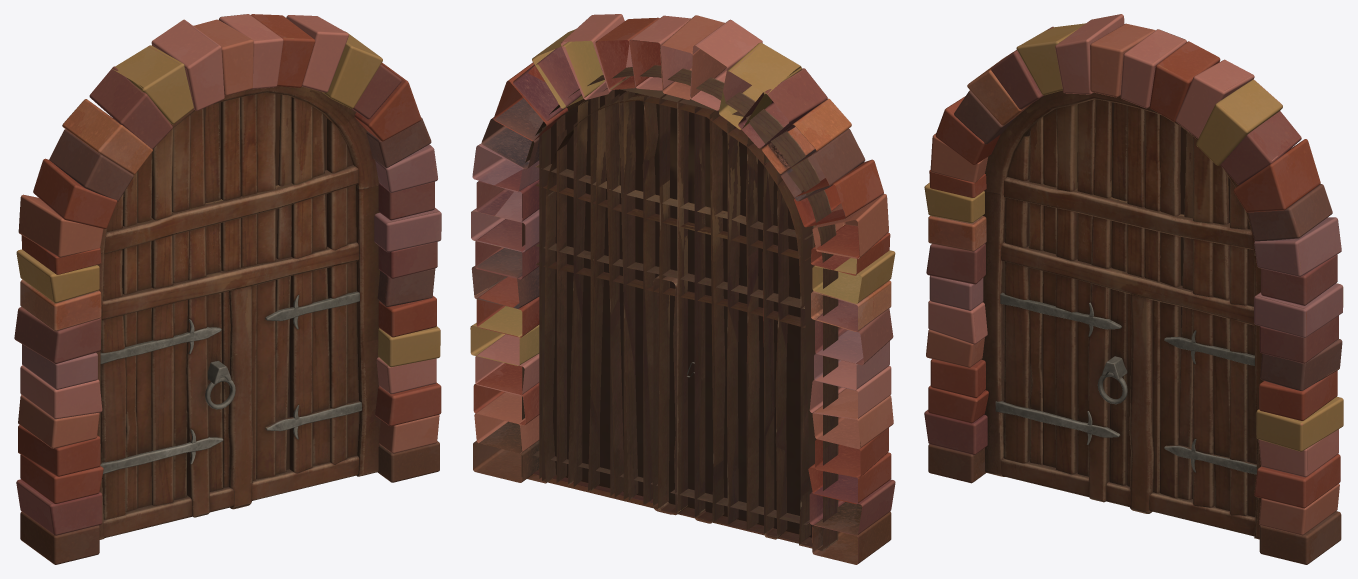
The model's file is SM_MainDoor.fbx.
The picture shows the model from 3 angles, left to right: view 1: azimuth 30°, elevation 25°; view 2: azimuth 150°, elevation 25°; view 3: azimuth 330°, elevation 25°; orthographic projection.
Parts seen in each view (by area): view 1: SM_MainDoor_LOD0; view 2: SM_MainDoor_LOD0; view 3: SM_MainDoor_LOD0.
Part boxes in pixels (bbox=[...]): SM_MainDoor_LOD0: bbox=[14, 14, 441, 564]; SM_MainDoor_LOD0: bbox=[470, 14, 895, 564]; SM_MainDoor_LOD0: bbox=[924, 14, 1343, 564].
Bounding box in the file's own units: 251 × 41.17 × 294.
1 material, 1 textured.
